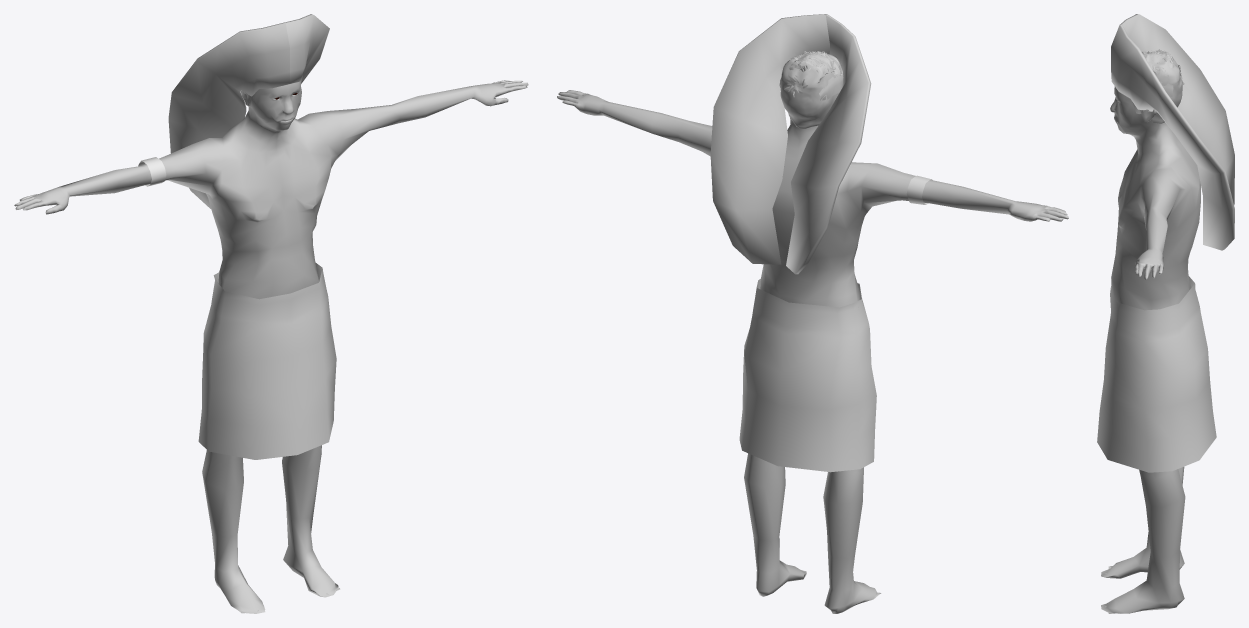
File: Substance.fbx
3 views of the same model, side by side, from view 1: azimuth 30°, elevation 25°; view 2: azimuth 150°, elevation 25°; view 3: azimuth 270°, elevation 25° (orthographic).
Visible parts, largest first — view 1: corpo, Roupa, cocar; view 2: corpo, cocar, Roupa, cabelo; view 3: corpo, Roupa, cocar, cabelo.
Part boxes in pixels (x1,y1,x2,y2): corpo: [14, 80, 528, 613]; Roupa: [138, 157, 336, 459]; cocar: [168, 14, 329, 208]; corpo: [557, 90, 1068, 613]; cocar: [710, 14, 871, 274]; Roupa: [739, 175, 932, 472]; cabelo: [779, 51, 843, 128]; corpo: [1101, 86, 1200, 613]; Roupa: [1097, 276, 1216, 472]; cocar: [1111, 14, 1234, 250]; cabelo: [1132, 49, 1184, 123].
Bounding box in the file's own units: 635 × 681 × 150.
